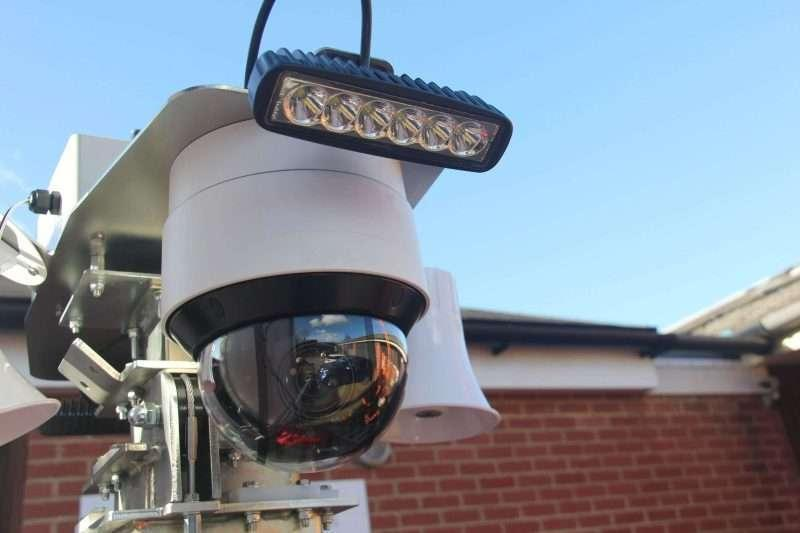dome: (153, 194, 433, 475)
